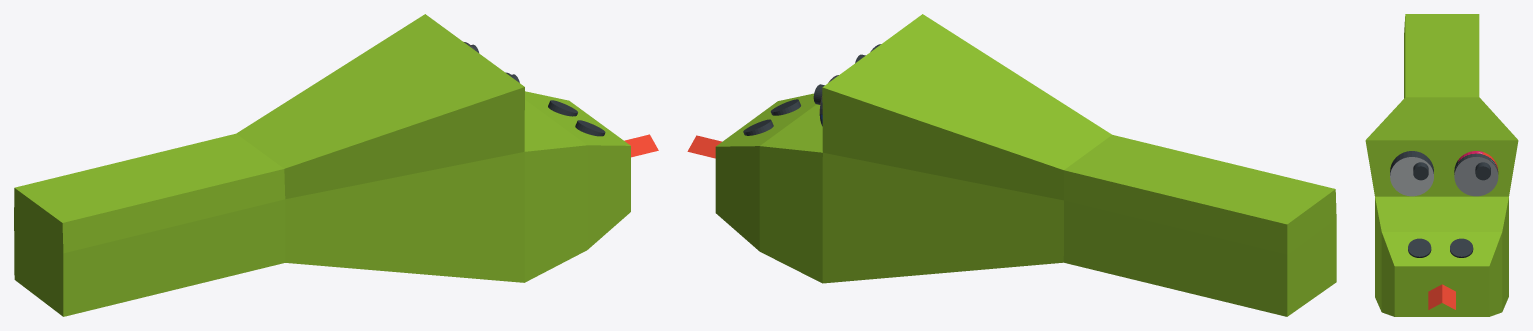
File: cabeza.fbx
3 views of the same model, side by side, from view 1: azimuth 30°, elevation 25°; view 2: azimuth 150°, elevation 25°; view 3: azimuth 270°, elevation 25° (orthographic). The views are drawn at different scales.
Parts seen in each view (by area): view 1: Snake; view 2: Snake; view 3: Snake.
Boxes of the visible parts, x1,y1,x2,y2 form: Snake: (14,14,658,316); Snake: (687,14,1336,316); Snake: (1365,14,1518,316).
Bounding box in the file's own units: 301 × 94.86 × 84.93.
